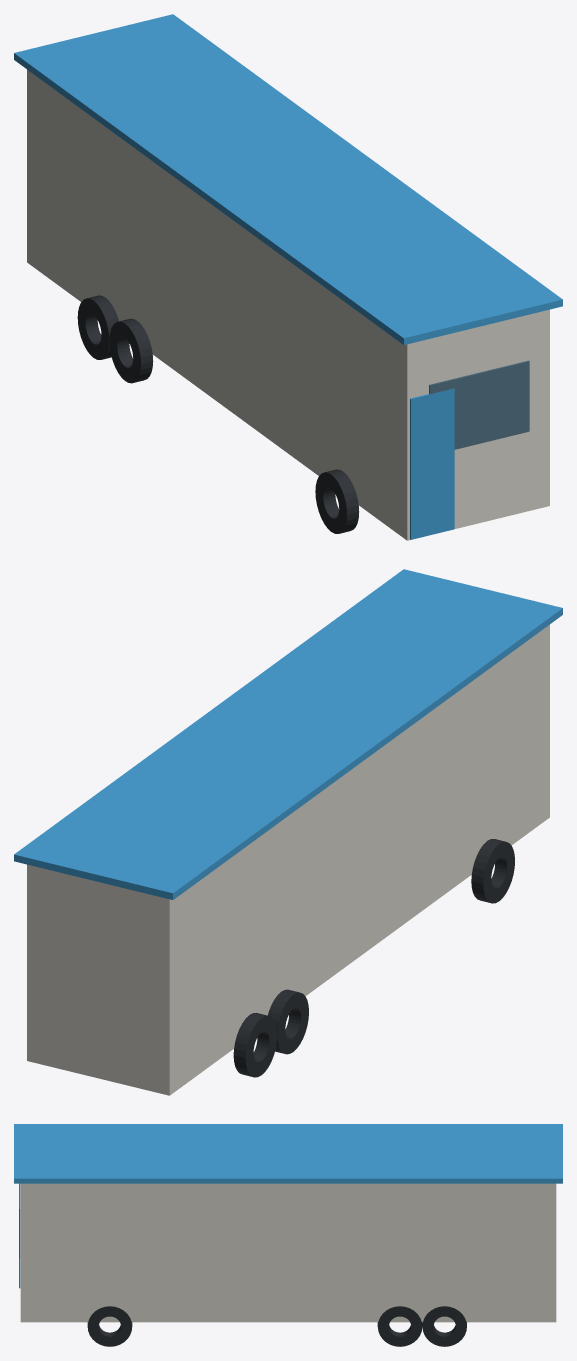
Rendered from stock-car-oval-speedway-hauler-transporter-c546ccf6__16948.glb.
3 renders of one model, top to bottom at view 1: azimuth 30°, elevation 25°; view 2: azimuth 150°, elevation 25°; view 3: azimuth 270°, elevation 25°, orthographic. The views are drawn at different scales.
Visible parts, largest first — view 1: hauler-transporter; view 2: hauler-transporter; view 3: hauler-transporter.
Boxes of the visible parts, x1,y1,x2,y2 form: hauler-transporter: (14,14,562,540); hauler-transporter: (14,569,562,1095); hauler-transporter: (14,1124,562,1346).
Bounding box in the file's own units: 2.98 × 4.22 × 12.3.
